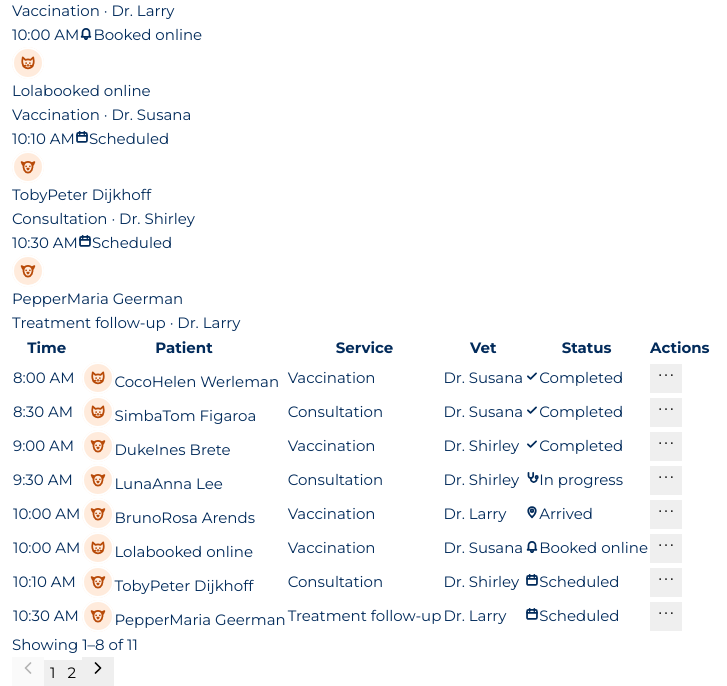
StaffAppointments › goes to the next page
The width and height of the screenshot is (727, 686).
(page scrolled)
Click the button named "next".
click(98, 672)  # box [82,657,114,685]
(page scrolled)
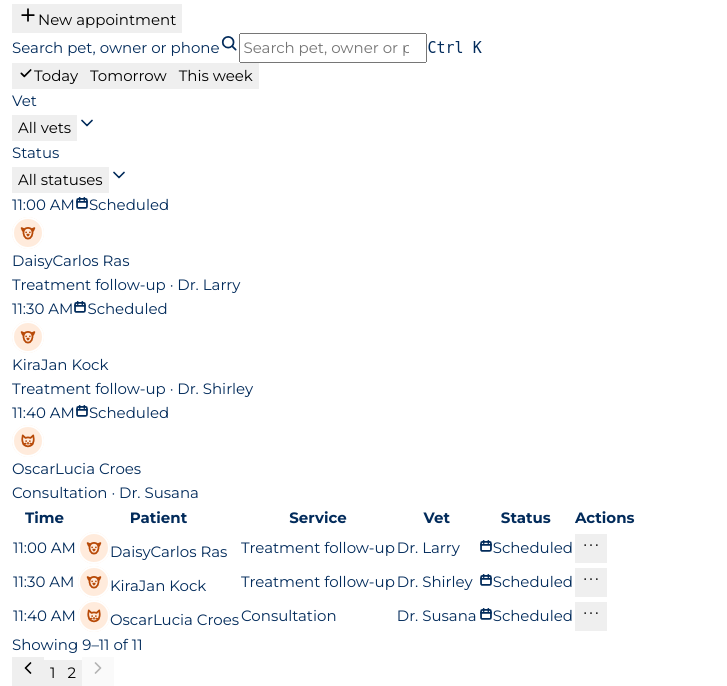
Expected: the number of rows is 4, [12,505,636,531]; [12,531,636,565]; [12,565,636,599]; [12,599,636,633]
